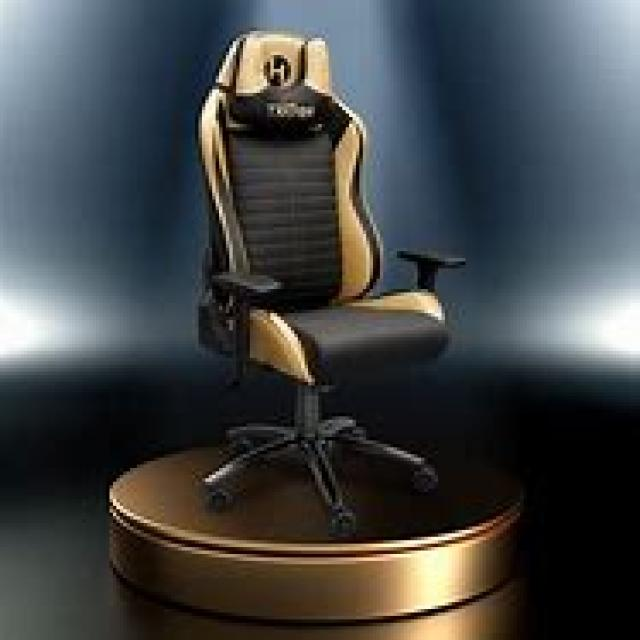chair: (192, 24, 466, 533)
